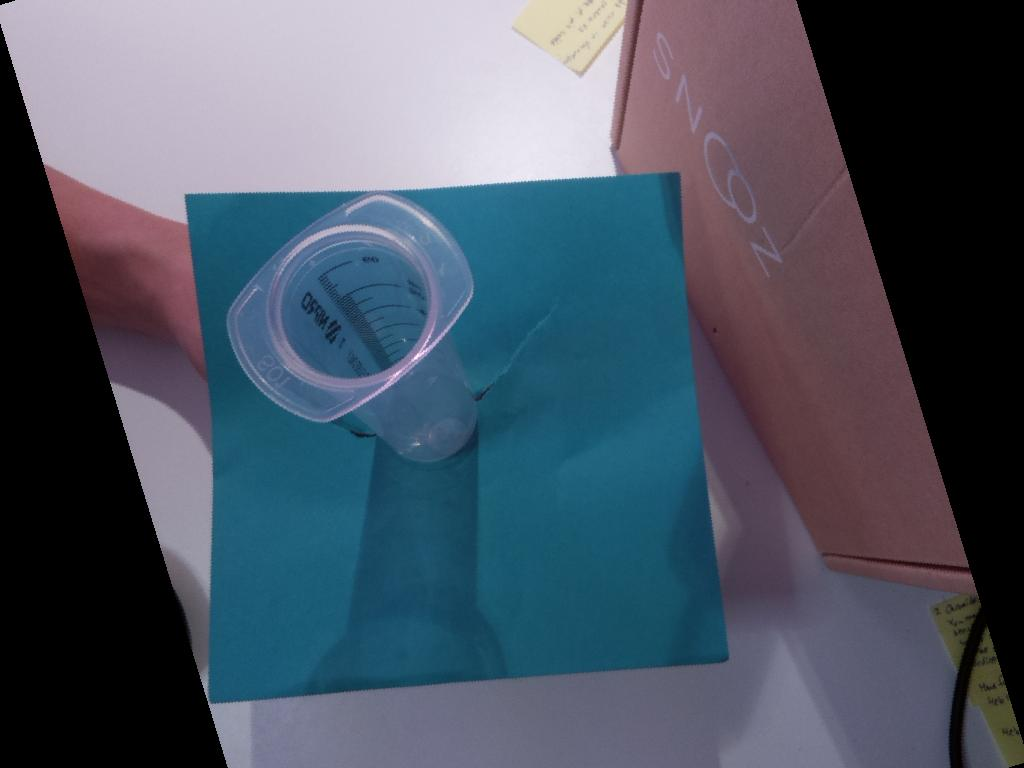clean: (223, 192, 477, 425)
